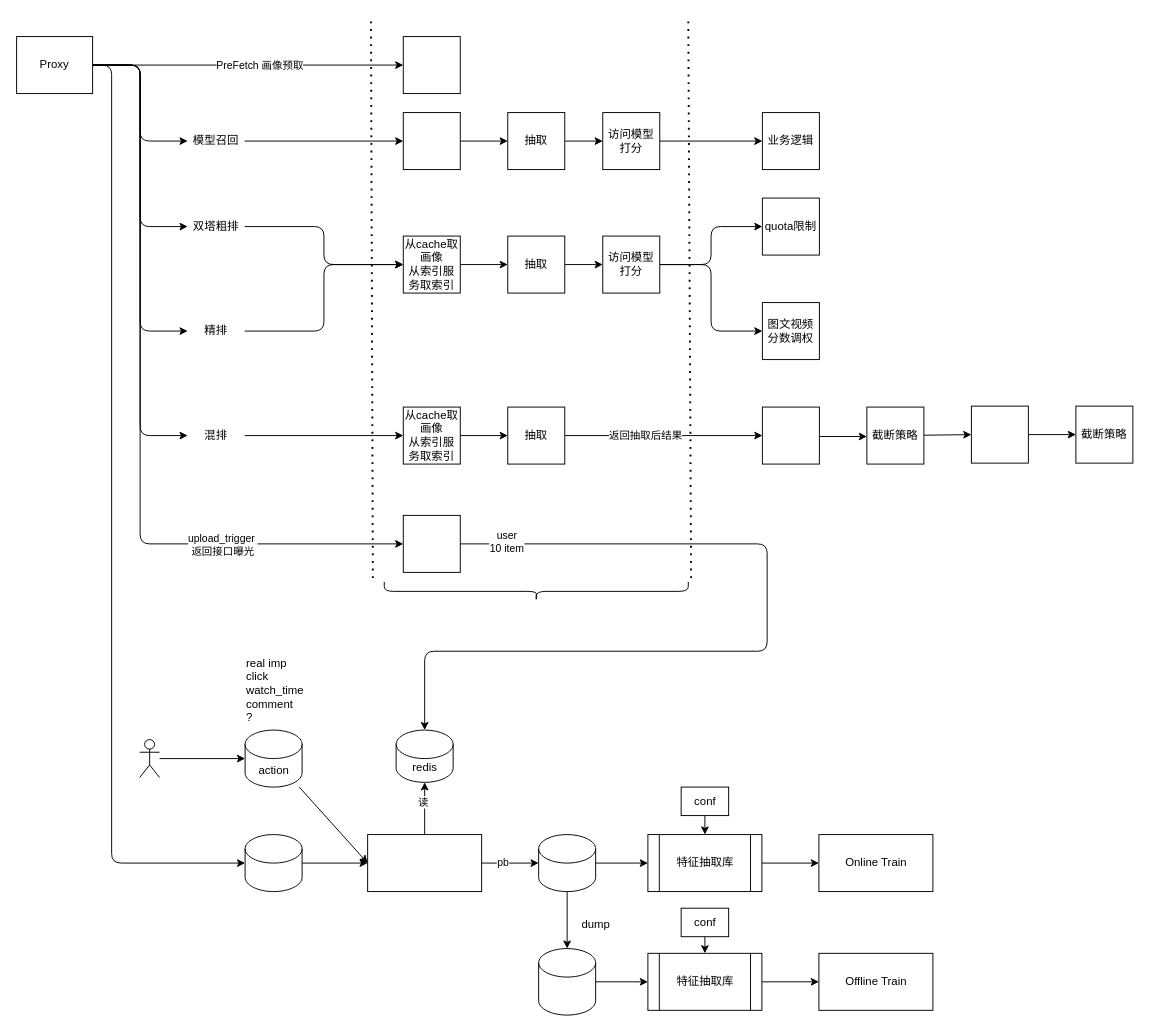
This 1150x1032 diagram has some shape labels left out. The shapes that lost their labels are listed below. From the top down, each one's box as (x1, y1, x2, y2) in pixels, then its label:
(402, 36, 460, 94): 取画像并cache
(402, 112, 460, 170): 从cache取画像
(761, 406, 819, 464): 访问模型1打分
(970, 405, 1028, 463): 访问模型2打分
(402, 514, 460, 572): 样本上报
(383, 581, 688, 601): PredictServer
(139, 739, 160, 778): Actor
(244, 834, 302, 892): interface imp
(367, 834, 482, 892): FlinkJoiner
(538, 834, 596, 892): kafka
(538, 948, 596, 1015): HDFS
